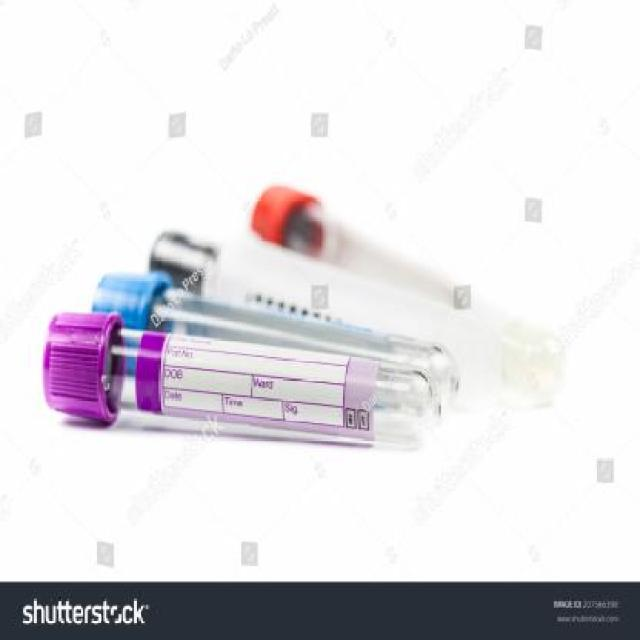Experimental-tube: (40, 306, 443, 446), (90, 268, 461, 409), (248, 181, 462, 319)
